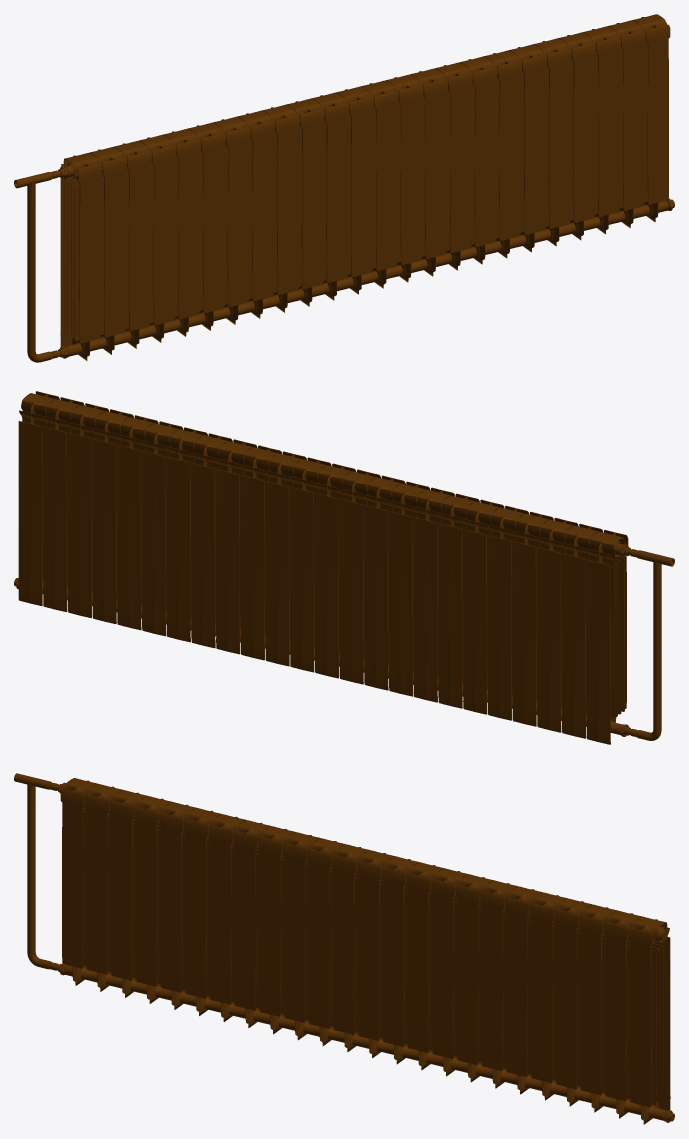
File: Radiators_Game2.FBX
3 views of the same model, one above another, from view 1: azimuth 30°, elevation 25°; view 2: azimuth 150°, elevation 25°; view 3: azimuth 330°, elevation 25° (orthographic).
Visible parts, largest first — view 1: Radiator (×23), Radiator001_low, PipeSystem_Un; view 2: Radiator (×23), Radiator001_low, PipeSystem_Un; view 3: Radiator (×23), PipeSystem_Un, Radiator001_low.
Part boxes in pixels (x1,y1,x2,y2): Radiator (×23): [89, 14, 670, 354]; Radiator001_low: [60, 153, 102, 360]; PipeSystem_Un: [14, 22, 674, 362]; Radiator (×23): [18, 391, 603, 738]; Radiator001_low: [586, 530, 628, 744]; PipeSystem_Un: [14, 402, 674, 740]; Radiator (×23): [85, 784, 670, 1124]; PipeSystem_Un: [14, 773, 674, 1122]; Radiator001_low: [60, 778, 98, 985].
Size of the model in its own units: 259 by 74.96 by 12.41.
